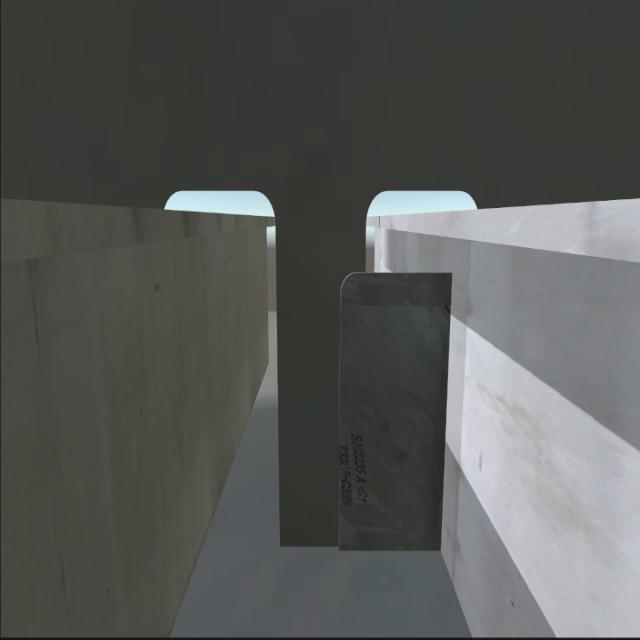fillet_yong_jeop_jang: (275, 528, 450, 559)
longi_yong_jeop_jang: (429, 268, 453, 554)
plate_CP05: (336, 268, 446, 548)
